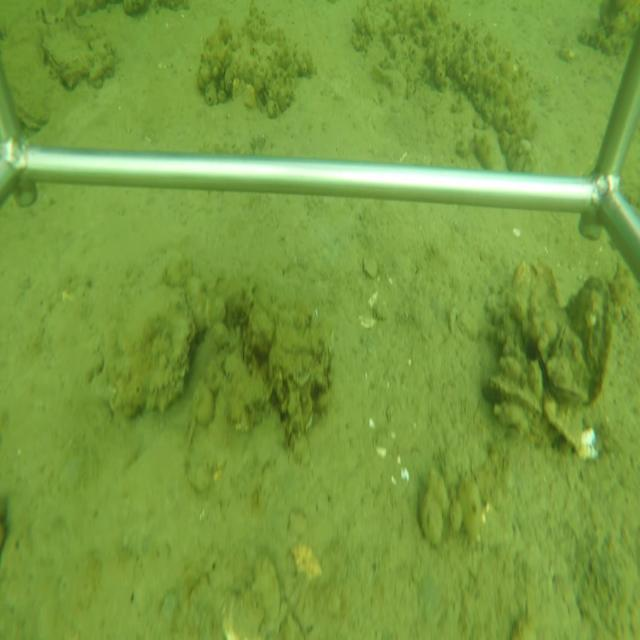Oyster-Closed: (102, 280, 196, 419), (568, 275, 621, 401), (4, 29, 62, 132), (43, 19, 104, 86), (542, 355, 592, 408), (485, 374, 541, 416), (543, 400, 585, 454)
